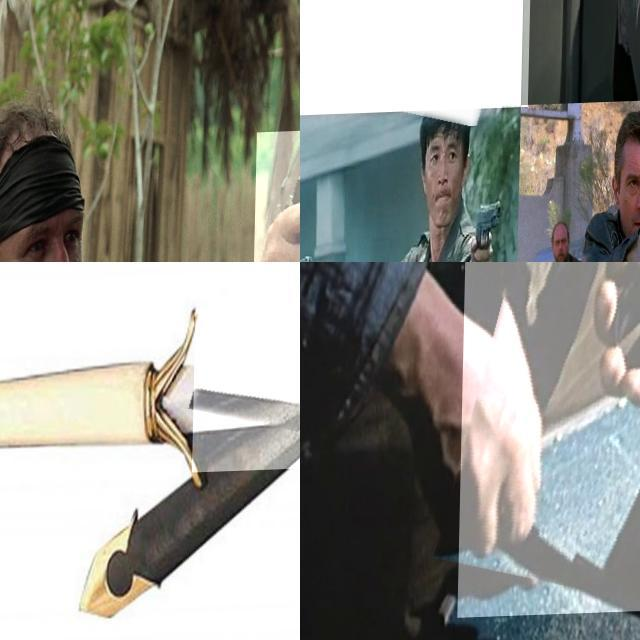-: (193, 300, 300, 474)
gun-knife-thesis - v11 Yolov5 augmented: (460, 262, 640, 619), (300, 0, 534, 159), (470, 198, 505, 262)
